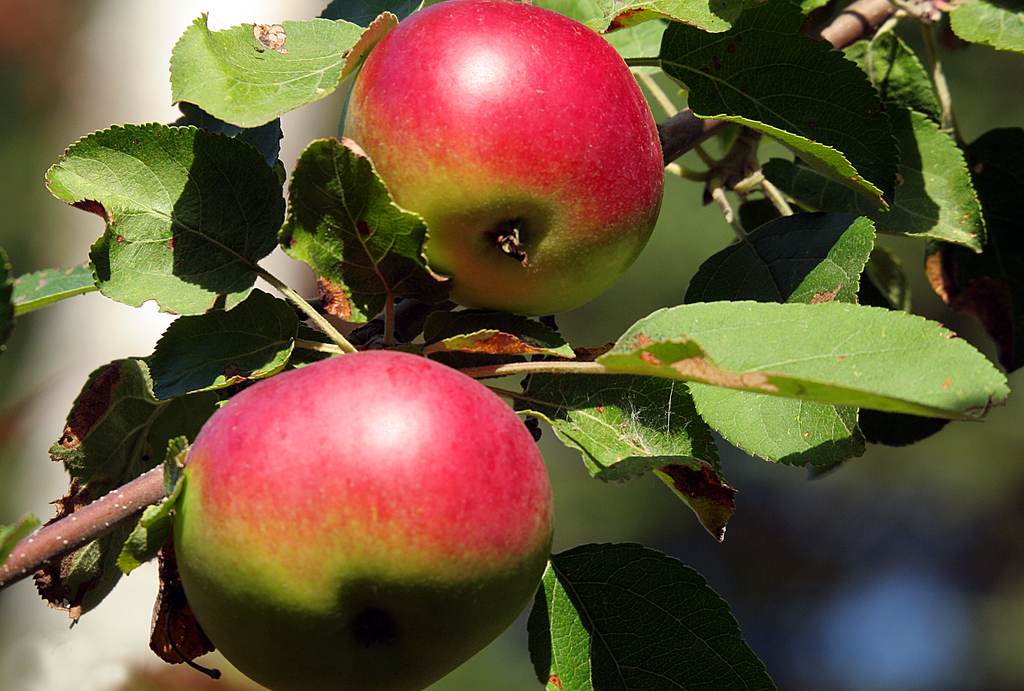Apple: (170, 322, 548, 687), (337, 0, 669, 320)
